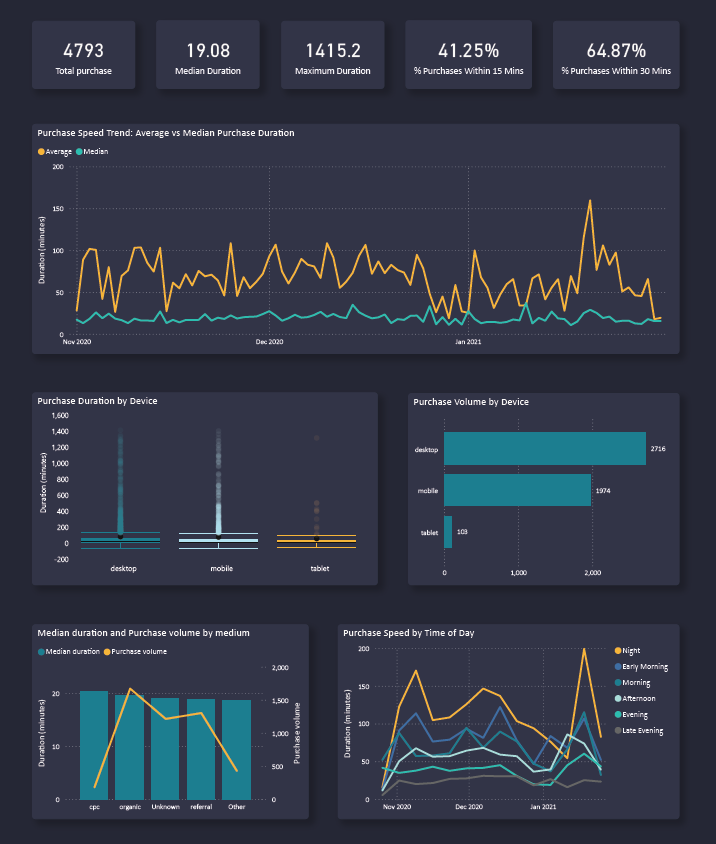

This screenshot's page, from the dashboard's own definition file:
{"tool":"powerbi","page":{"name":"Report","canvas":[1100,1380],"ordinal":0},"visuals":[{"type":"card","fields":{"Values":["Max(duration table_result BQ_clean.duration_minutes)"]},"box":[433.8,124.5,155,102],"z":0},{"type":"card","fields":{"Values":["Median(duration table_result BQ_clean.duration_minutes)"]},"box":[246.4,124.4,155,102.4],"z":1000},{"type":"card","fields":{"Values":["CountNonNull(duration table_result BQ_clean.duration_minutes)"]},"box":[59,124.5,155,102],"z":2000},{"type":"BoxWhiskerChart1455240051538","title":"Purchase Duration by Device","fields":{"Samples":["duration table_result BQ_clean.duration_minutes"],"Groups":["duration table_result BQ_clean.device"],"Values":["Median(duration table_result BQ_clean.duration_minutes)"]},"box":[59,684.4,520,290],"z":3000},{"type":"clusteredBarChart","title":"Purchase Volume by Device","fields":{"Y":["CountNonNull(duration table_result BQ_clean.daily_first_event_name)"],"Category":["duration table_result BQ_clean.device"]},"box":[625,685.4,408,289],"z":4000},{"type":"card","fields":{"Values":["duration table_result BQ_clean.% Purchases Within 15 Min"]},"box":[621.2,124.4,189.4,102.4],"z":5000},{"type":"card","fields":{"Values":["duration table_result BQ_clean.% Purchases Within 30 Mins"]},"box":[843,124.5,190,102],"z":6000},{"type":"lineChart","title":"Purchase Speed Trend: Average vs Median Purchase Duration","fields":{"Y":["Avg(duration table_result BQ_clean.duration_minutes)","Median(duration table_result BQ_clean.duration_minutes)1"],"Category":["duration table_result BQ_clean.event_day.Variation.Date Hierarchy.Year","duration table_result BQ_clean.event_day.Variation.Date Hierarchy.Quarter","duration table_result BQ_clean.event_day.Variation.Date Hierarchy.Month","duration table_result BQ_clean.event_day.Variation.Date Hierarchy.Day"]},"box":[59,280.4,974,346],"z":7000},{"type":"lineClusteredColumnComboChart","fields":{"Category":["duration table_result BQ_clean.medium"],"Y":["Median(duration table_result BQ_clean.duration_minutes)"],"Y2":["CountNonNull(duration table_result BQ_clean.daily_first_event_name)"]},"box":[59,1033.4,416,293],"z":8000},{"type":"lineChart","title":"Purchase Speed by Time of Day","fields":{"Y":["Avg(duration table_result BQ_clean.duration_minutes)"],"Category":["duration table_result BQ_clean.Start of Week.Variation.Date Hierarchy.Year","duration table_result BQ_clean.Start of Week.Variation.Date Hierarchy.Quarter","duration table_result BQ_clean.Start of Week.Variation.Date Hierarchy.Month","duration table_result BQ_clean.Start of Week.Variation.Date Hierarchy.Day"],"Series":["duration table_result BQ_clean.Time Slot"]},"box":[519,1033.4,514,293],"z":9000},{"type":"textbox","box":[0,0,1100,77],"z":9001}]}

Visuals, with their boxes on the page's 1100x1380 design canvas (x1, y1, x2, y2). These are canvas units, not pixel positions in the 716x844 screenshot, which may show the page scaled, cropped or inside an application window:
card - Max(duration table_result BQ_clean.duration_minutes): bbox=(434, 124, 589, 226)
card - Median(duration table_result BQ_clean.duration_minutes): bbox=(246, 124, 401, 227)
card - CountNonNull(duration table_result BQ_clean.duration_minutes): bbox=(59, 124, 214, 226)
"Purchase Duration by Device" BoxWhiskerChart1455240051538: bbox=(59, 684, 579, 974)
"Purchase Volume by Device" clusteredBarChart: bbox=(625, 685, 1033, 974)
card - duration table_result BQ_clean.% Purchases Within 15 Min: bbox=(621, 124, 811, 227)
card - duration table_result BQ_clean.% Purchases Within 30 Mins: bbox=(843, 124, 1033, 226)
"Purchase Speed Trend: Average vs Median Purchase Duration" lineChart: bbox=(59, 280, 1033, 626)
lineClusteredColumnComboChart - duration table_result BQ_clean.medium x Median(duration table_result BQ_clean.duration_minutes): bbox=(59, 1033, 475, 1326)
"Purchase Speed by Time of Day" lineChart: bbox=(519, 1033, 1033, 1326)
textbox: bbox=(0, 0, 1100, 77)
